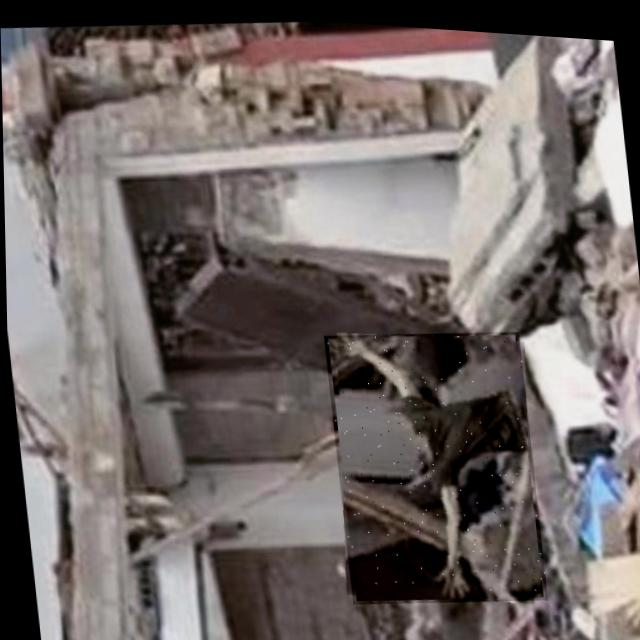Person in Rubble: (321, 313, 545, 608)
